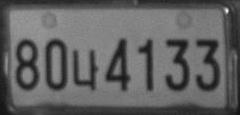0: (44, 38, 68, 90)
1: (135, 38, 161, 91)
3: (164, 38, 190, 92), (195, 38, 221, 92)
4: (104, 38, 132, 91)
8: (14, 38, 39, 90)
나: (72, 49, 99, 90)
